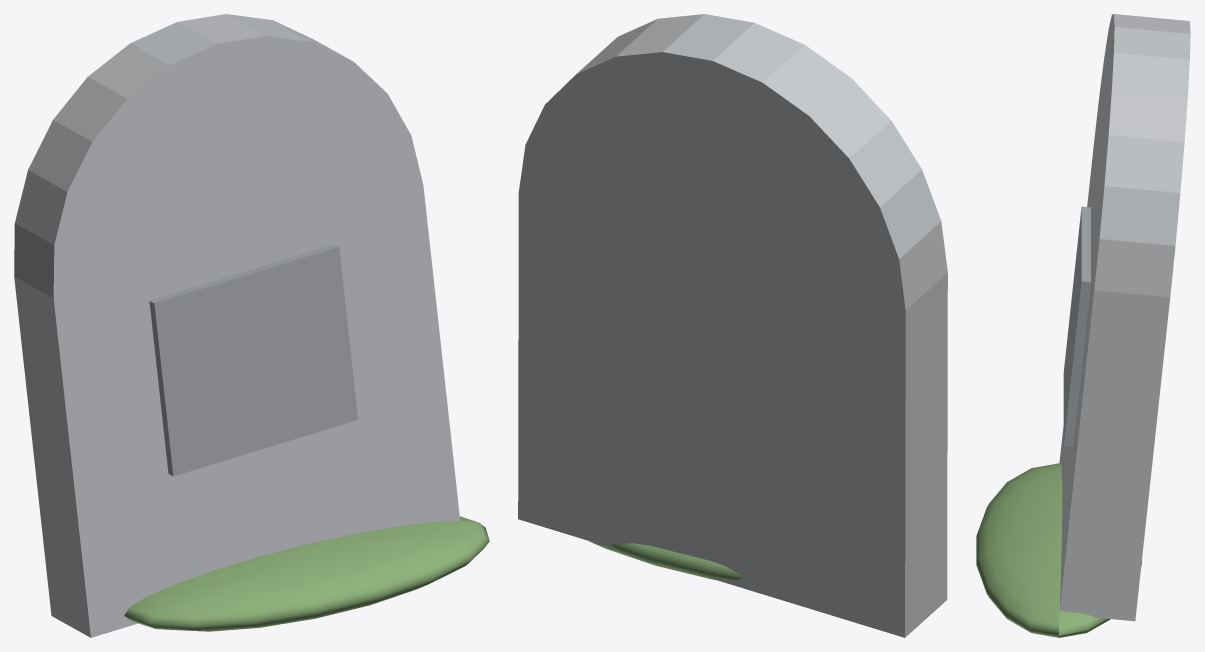
The model's file is tombstone.glb.
3 views of the same model, side by side, from view 1: azimuth 30°, elevation 25°; view 2: azimuth 150°, elevation 25°; view 3: azimuth 270°, elevation 25° (orthographic). The views are drawn at different scales.
Bounding box in the file's own units: 0.7146 × 0.9021 × 0.3365.
